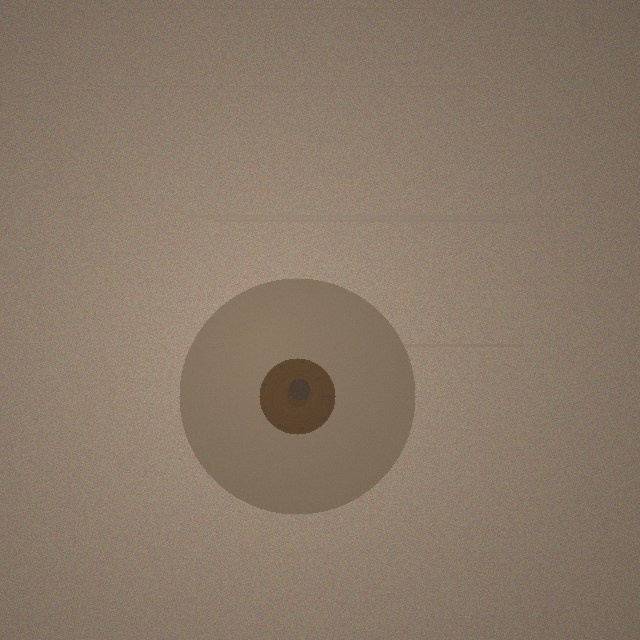cold_weld: (179, 278, 415, 514)
